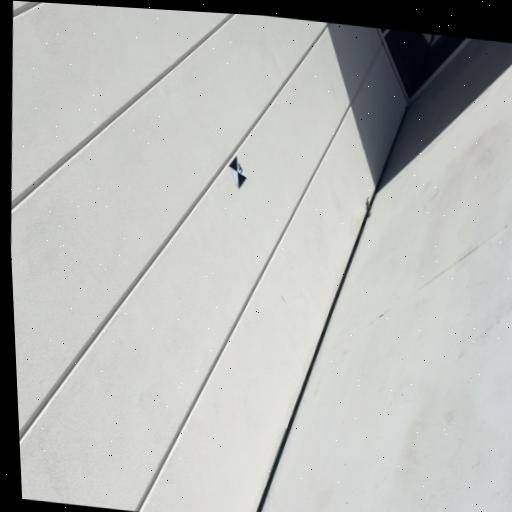target4: (229, 155, 247, 189)
